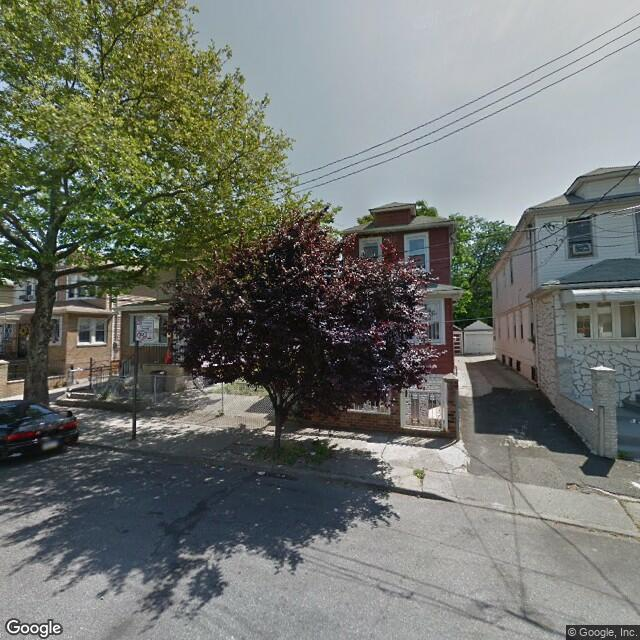litter: (214, 475, 227, 486), (259, 470, 274, 475), (203, 476, 210, 483)
